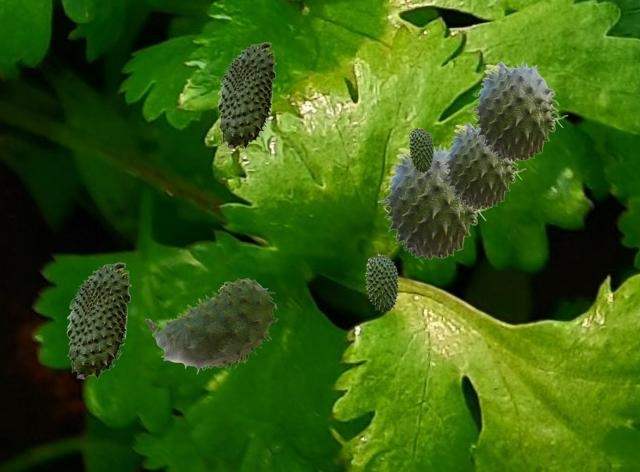guyabano: (377, 143, 488, 259), (145, 278, 277, 373), (467, 60, 567, 161), (66, 262, 130, 378), (439, 122, 525, 208), (217, 42, 275, 148), (365, 253, 398, 312), (408, 127, 433, 172)
